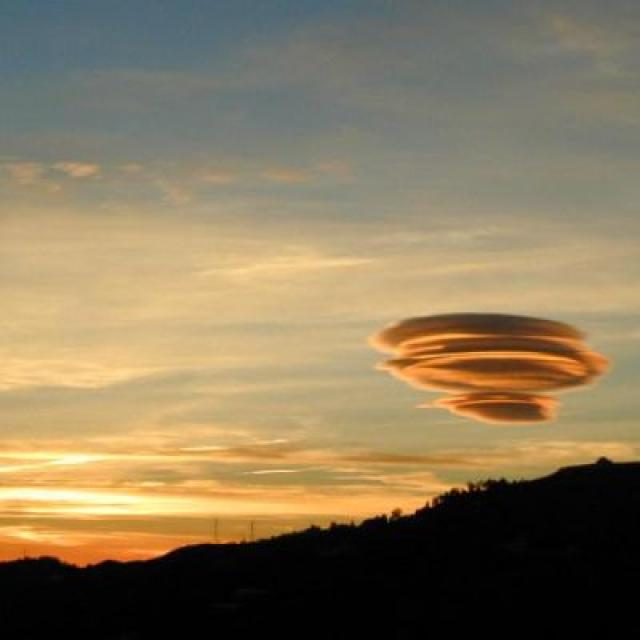Ac: (367, 309, 615, 438)
